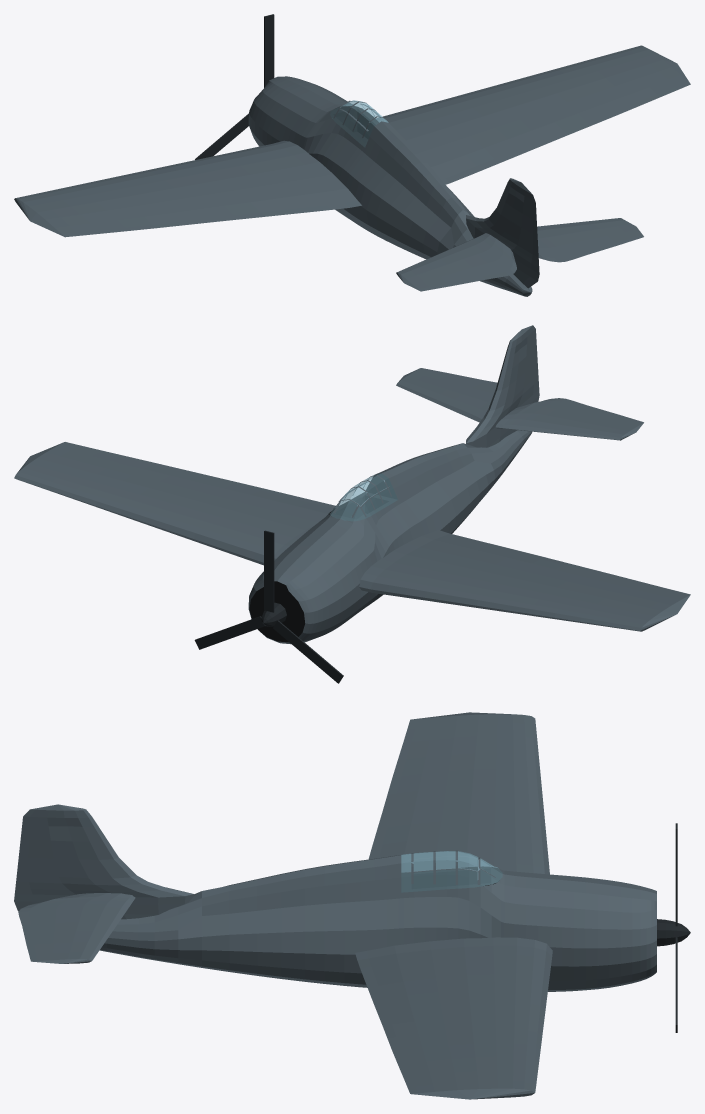
The picture shows the model from 3 angles, top to bottom: view 1: azimuth 30°, elevation 25°; view 2: azimuth 150°, elevation 25°; view 3: azimuth 270°, elevation 25°; orthographic projection. The views are drawn at different scales.
Visible parts, largest first — view 1: F4F_Wing, F4F_Fuselage, F4F_Tailplane, F4F_Fin, F4F_Prop, F4F_Glass; view 2: F4F_Wing, F4F_Fuselage, F4F_Tailplane, F4F_Fin, F4F_Prop, F4F_Glass; view 3: F4F_Wing, F4F_Fuselage, F4F_Fin, F4F_Tailplane, F4F_Glass, F4F_Hub, F4F_Frames, F4F_Prop.
Part boxes in pixels (bbox=[...]): F4F_Wing: bbox=[14, 45, 690, 237]; F4F_Fuselage: bbox=[248, 76, 532, 296]; F4F_Tailplane: bbox=[396, 218, 643, 291]; F4F_Fin: bbox=[466, 178, 539, 288]; F4F_Prop: bbox=[195, 14, 274, 159]; F4F_Glass: bbox=[330, 100, 388, 147]; F4F_Wing: bbox=[14, 442, 690, 631]; F4F_Fuselage: bbox=[248, 430, 532, 644]; F4F_Tailplane: bbox=[396, 368, 643, 440]; F4F_Fin: bbox=[466, 325, 539, 447]; F4F_Prop: bbox=[194, 530, 343, 683]; F4F_Glass: bbox=[330, 473, 397, 521]; F4F_Wing: bbox=[355, 712, 552, 1099]; F4F_Fuselage: bbox=[99, 855, 656, 991]; F4F_Fin: bbox=[14, 804, 193, 919]; F4F_Tailplane: bbox=[18, 893, 135, 963]; F4F_Glass: bbox=[401, 851, 502, 892]; F4F_Hub: bbox=[657, 919, 690, 946]; F4F_Frames: bbox=[407, 850, 495, 884]; F4F_Prop: bbox=[675, 823, 677, 1032].
Size of the model in its own units: 11.58 by 2.61 by 8.56.
